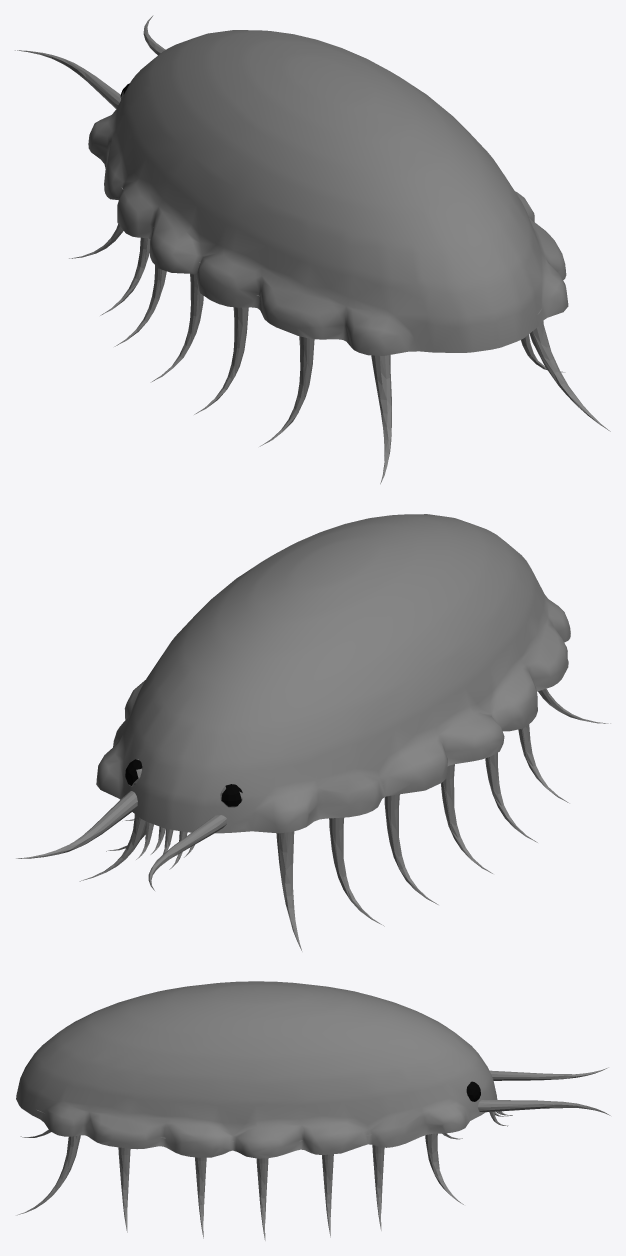
The model's file is cockroach.obj.
3 views of the same model, one above another, from view 1: azimuth 30°, elevation 25°; view 2: azimuth 150°, elevation 25°; view 3: azimuth 270°, elevation 25° (orthographic). The views are drawn at different scales.
Visible parts, largest first — view 1: cockroaach_cockroach; view 2: cockroaach_cockroach; view 3: cockroaach_cockroach.
Part boxes in pixels (<box>): cockroaach_cockroach: <box>15,15,610,484</box>; cockroaach_cockroach: <box>16,514,610,951</box>; cockroaach_cockroach: <box>16,981,610,1240</box>.
Bounding box in the file's own units: 1.22 × 0.9133 × 2.56.
Materials: 1 (1 with a texture image).
